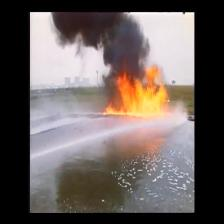fire: (112, 74, 165, 115)
smoke: (65, 15, 130, 42), (108, 47, 143, 70)
